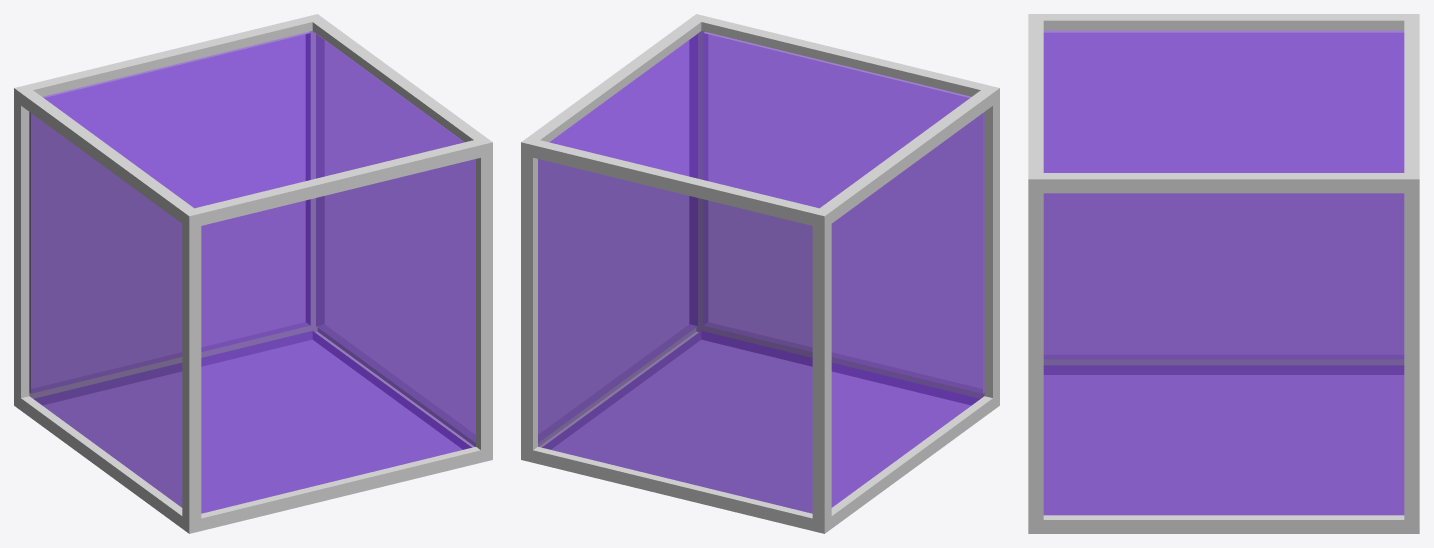
Rendered from wall glass.glb.
3 views of the same model, side by side, from view 1: azimuth 30°, elevation 25°; view 2: azimuth 150°, elevation 25°; view 3: azimuth 270°, elevation 25° (orthographic). The views are drawn at different scales.
Parts seen in each view (by area): view 1: Wall; view 2: Wall; view 3: Wall.
Boxes of the visible parts, x1,y1,x2,y2 form: Wall: [14, 14, 492, 533]; Wall: [521, 14, 999, 533]; Wall: [1028, 14, 1419, 533].
Size of the model in its own units: 1 by 1 by 1.
